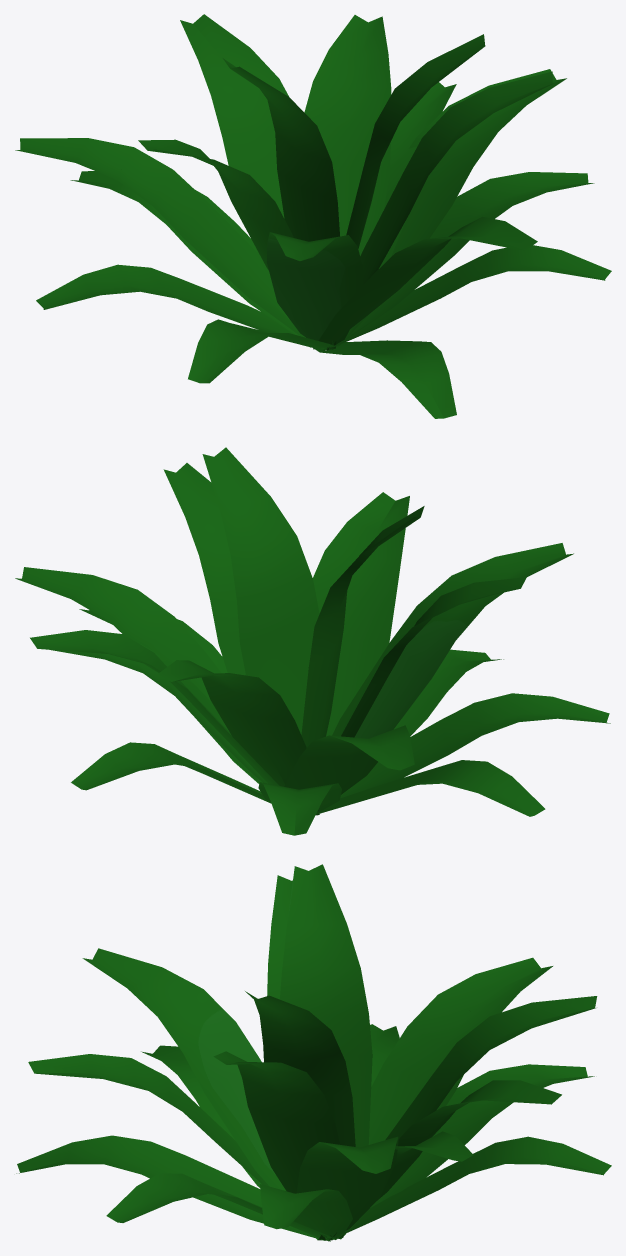
File: cali2.fbx
3 views of the same model, one above another, from view 1: azimuth 30°, elevation 25°; view 2: azimuth 150°, elevation 25°; view 3: azimuth 270°, elevation 25° (orthographic).
Parts seen in each view (by area): view 1: cali2; view 2: cali2; view 3: cali2.
Part boxes in pixels (<box>): cali2: <box>15,14,611,418</box>; cali2: <box>15,447,610,835</box>; cali2: <box>16,864,611,1241</box>.
Size of the model in its own units: 272 by 160 by 268.
1 material, 1 textured.
